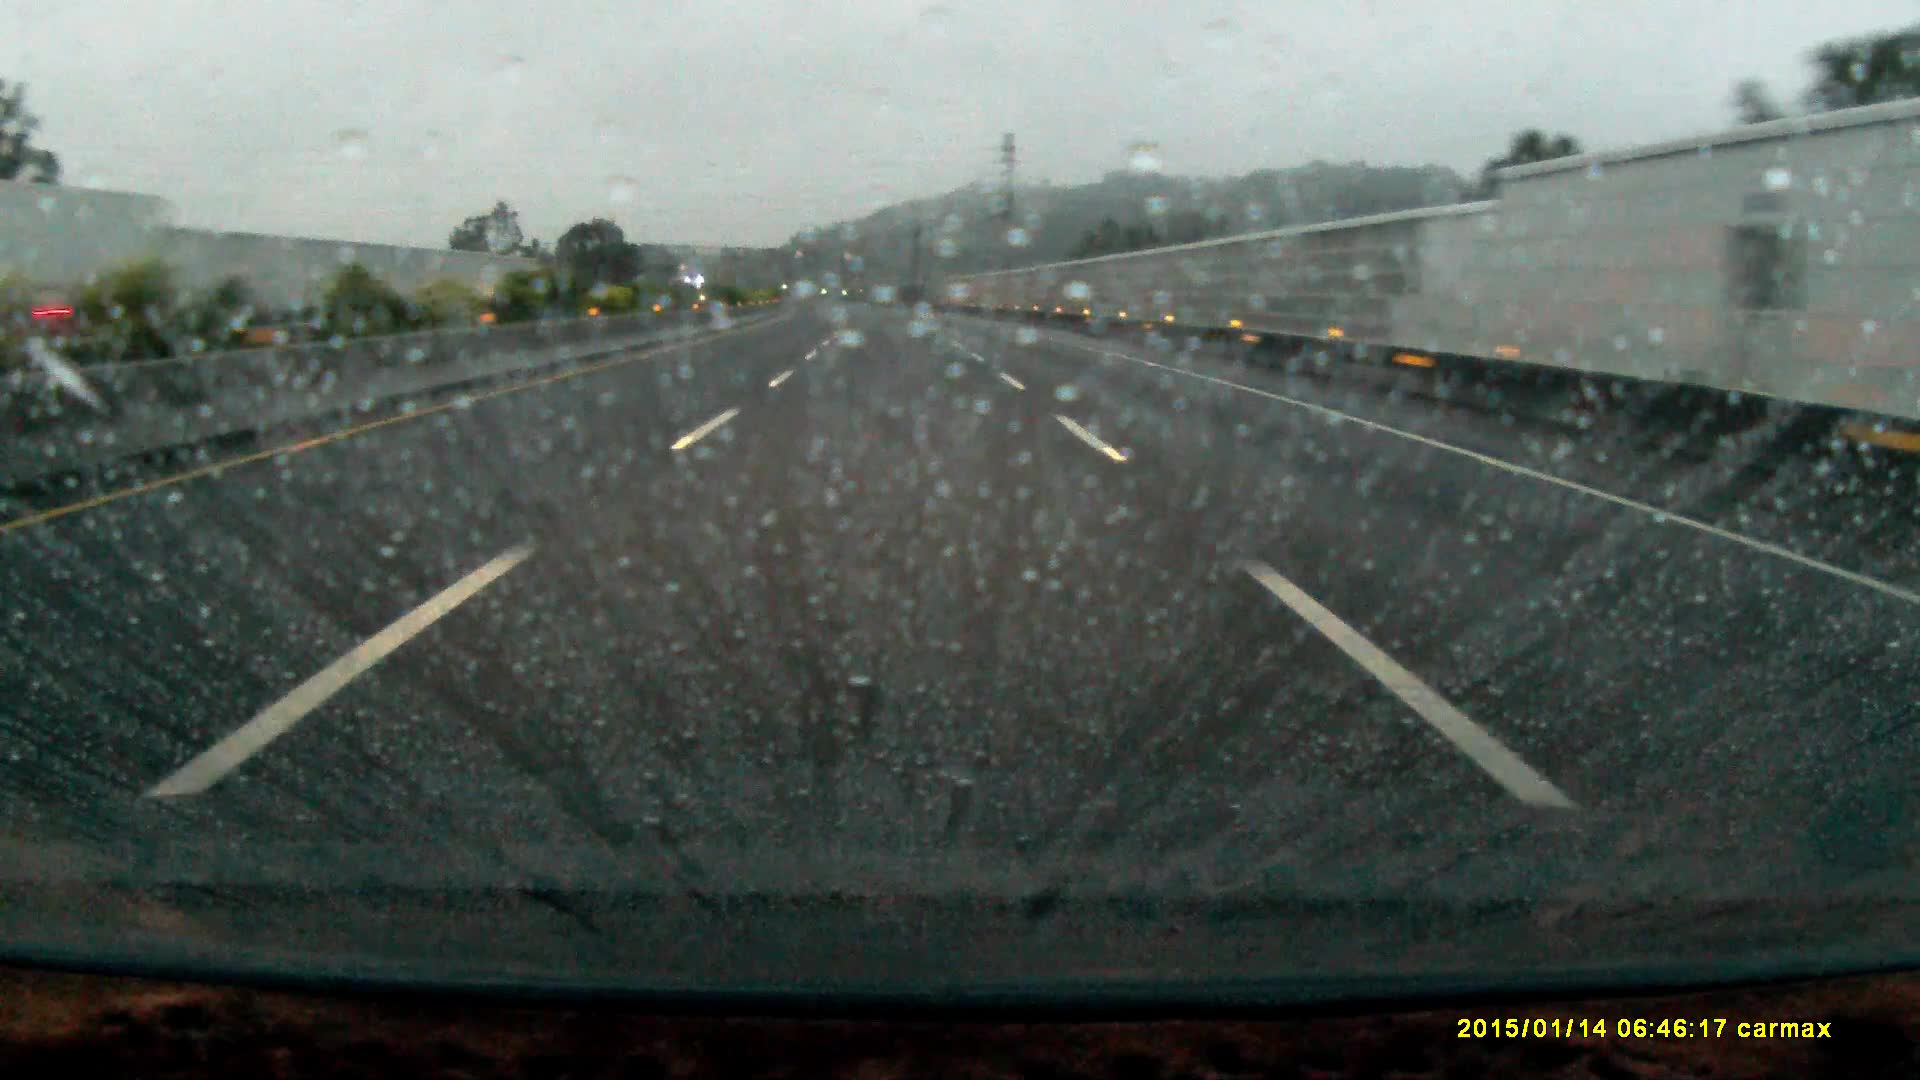vehicle: (1, 183, 185, 352)
